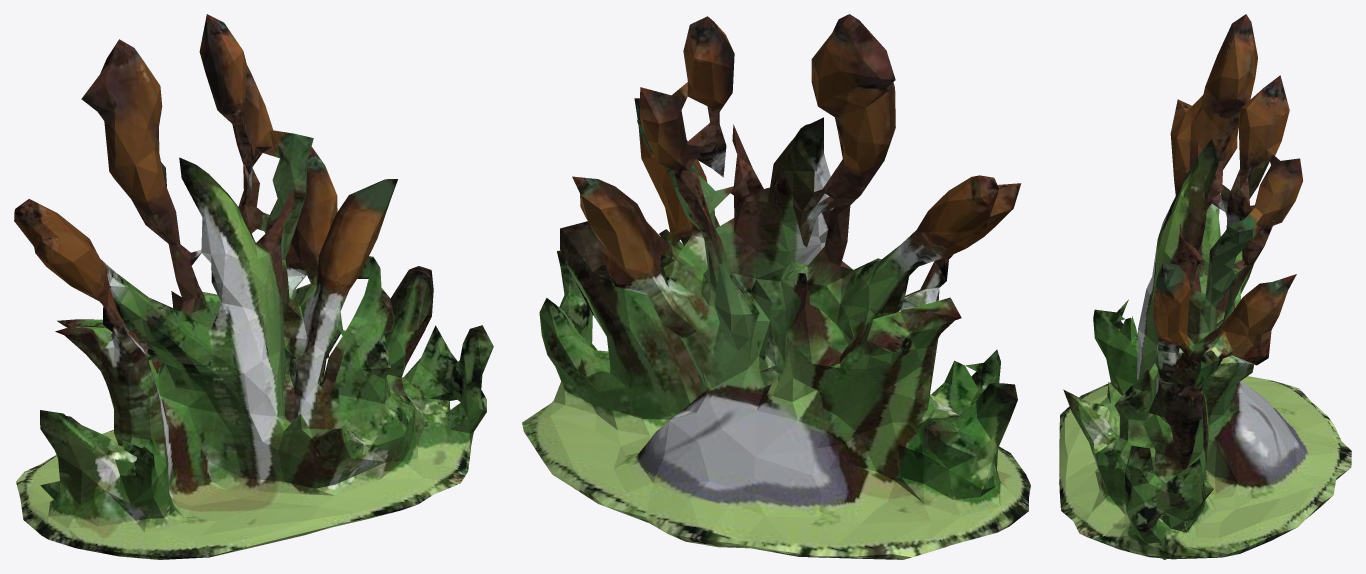
File: gol_saz.glb
3 renders of one model, left to right at view 1: azimuth 30°, elevation 25°; view 2: azimuth 150°, elevation 25°; view 3: azimuth 270°, elevation 25°, orthographic. The views are drawn at different scales.
Visible parts, largest first — view 1: geometry_0; view 2: geometry_0; view 3: geometry_0.
Part boxes in pixels (left/top/right/bottom): geometry_0: left=14, top=14, right=493, bottom=559; geometry_0: left=522, top=14, right=1030, bottom=559; geometry_0: left=1059, top=14, right=1351, bottom=559.
Bounding box in the file's own units: 0.9301 × 0.9873 × 0.592.
1 material, 1 textured.
